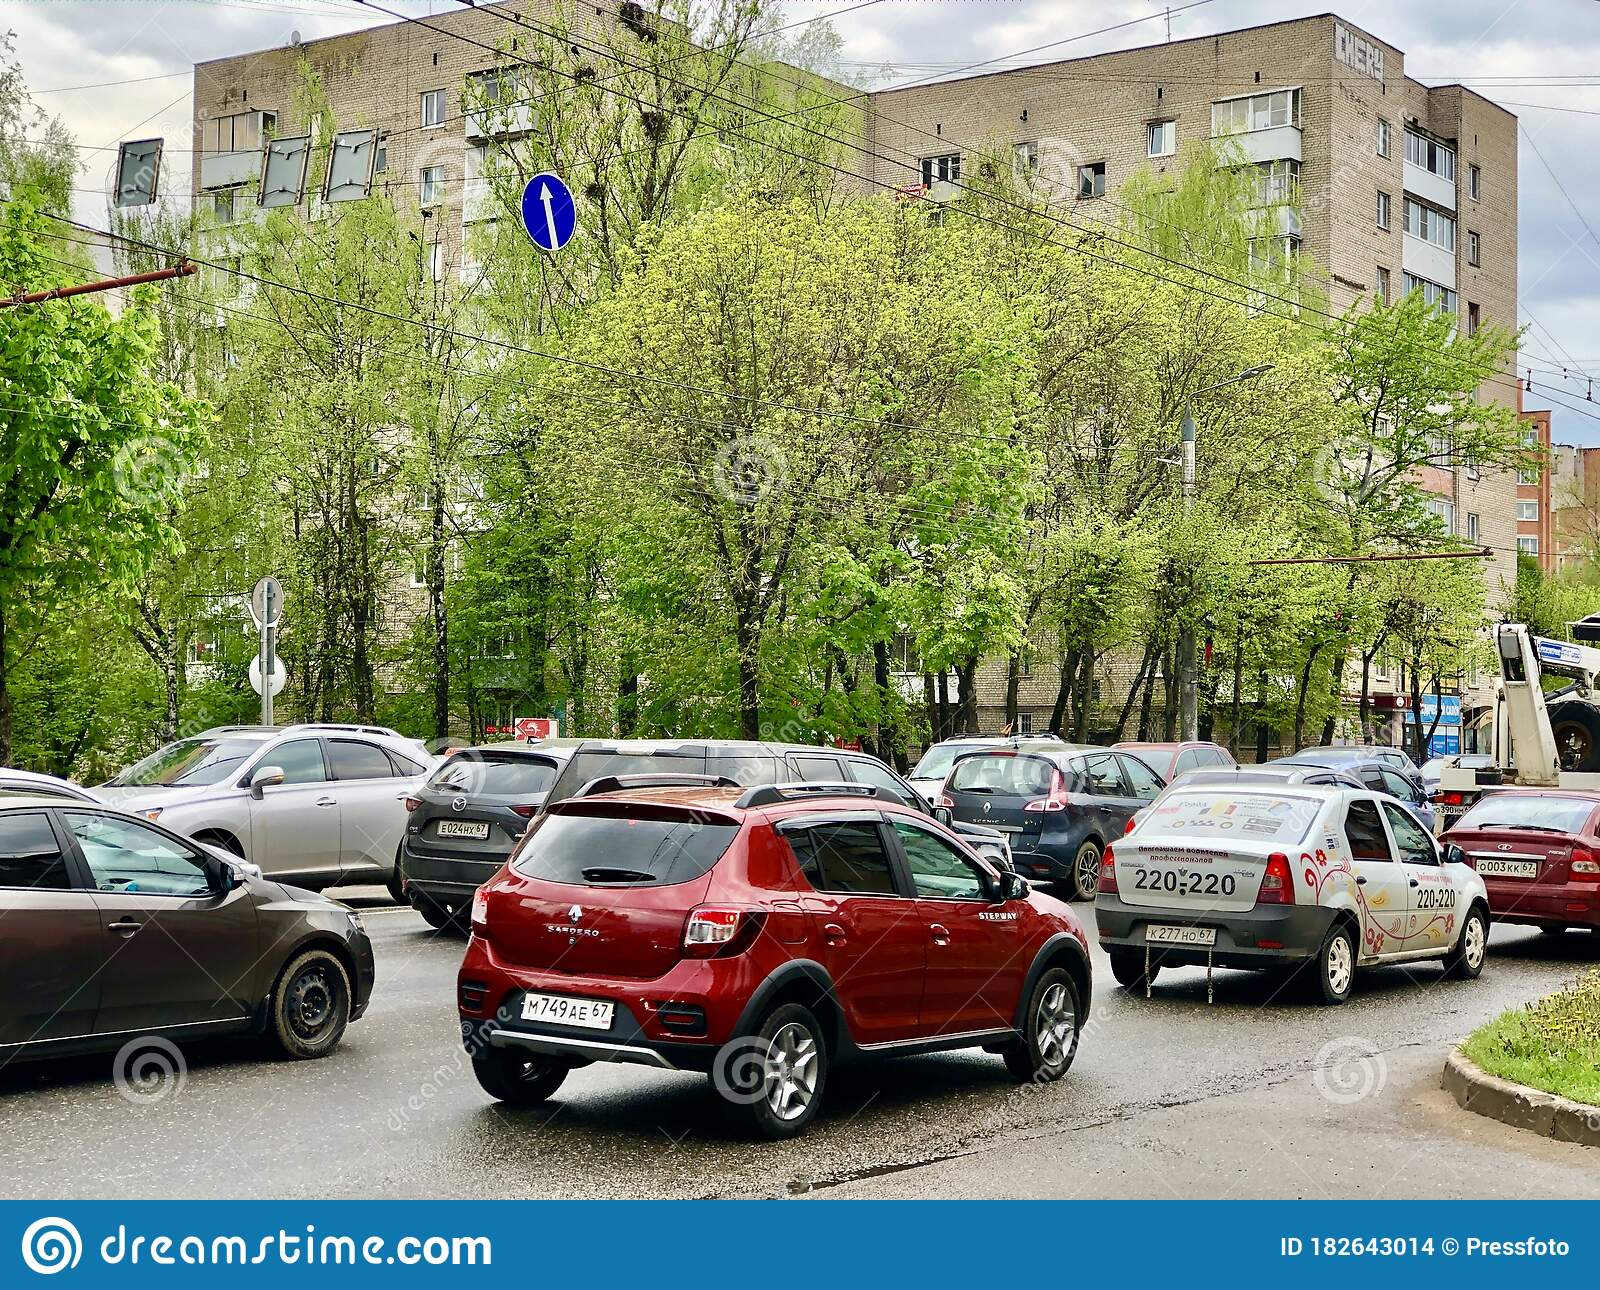car_rear: (464, 804, 755, 1075), (1096, 836, 1300, 969), (403, 740, 557, 913), (1434, 829, 1599, 930)
plate: (519, 991, 616, 1034), (1144, 921, 1219, 948), (1475, 856, 1540, 882), (437, 817, 490, 842)
